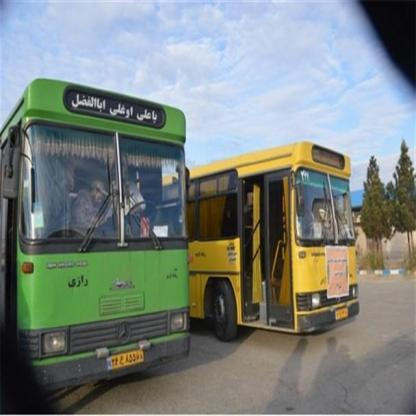Bus: (0, 81, 194, 385), (188, 149, 359, 344)
